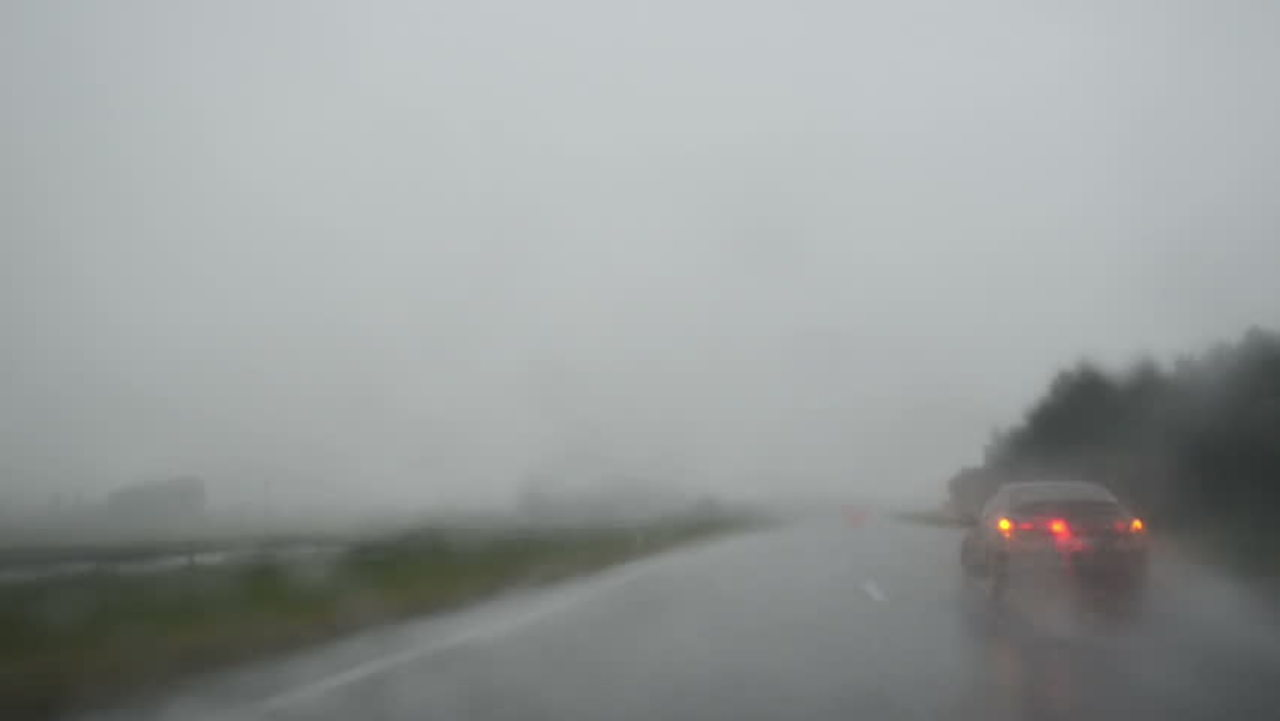car: (959, 480, 1150, 614)
